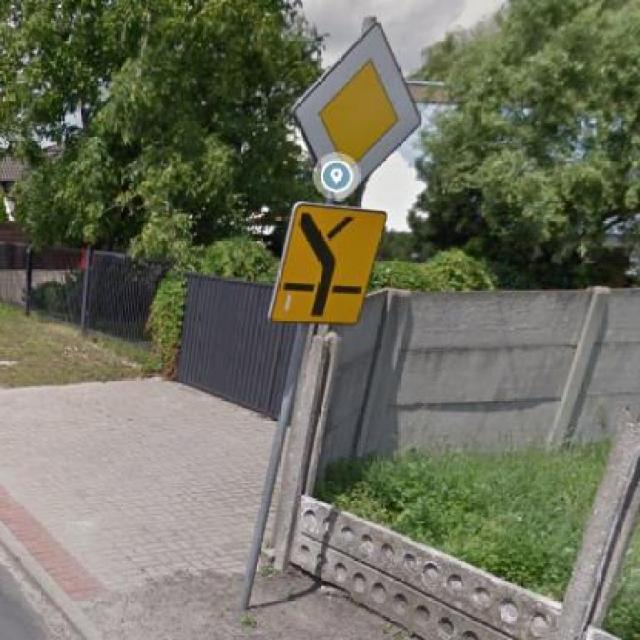Droga z pierwszenstwem: (290, 22, 422, 202)
